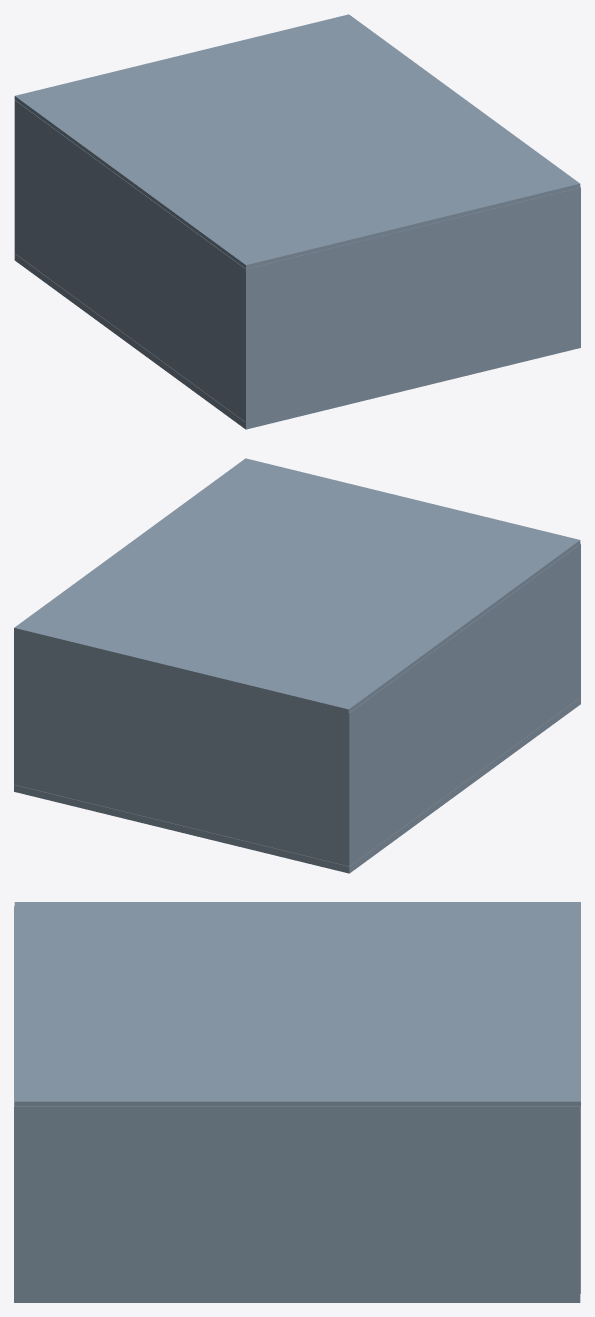
File: Total_test_v5.fbx
3 renders of one model, top to bottom at view 1: azimuth 30°, elevation 25°; view 2: azimuth 150°, elevation 25°; view 3: azimuth 270°, elevation 25°, orthographic. The views are drawn at different scales.
Visible parts, largest first — view 1: Plane, Cube.083; view 2: Plane, Cube.083, Plane.001; view 3: Cube.083, Plane.
Boxes of the visible parts, x1,y1,x2,y2 form: Plane: [14, 100, 580, 429]; Cube.083: [14, 14, 580, 268]; Plane: [14, 543, 580, 873]; Cube.083: [14, 458, 580, 713]; Plane.001: [15, 697, 580, 866]; Cube.083: [14, 902, 580, 1106]; Plane: [14, 906, 580, 1302].
Bounding box in the file's own units: 867 × 411 × 1037.
